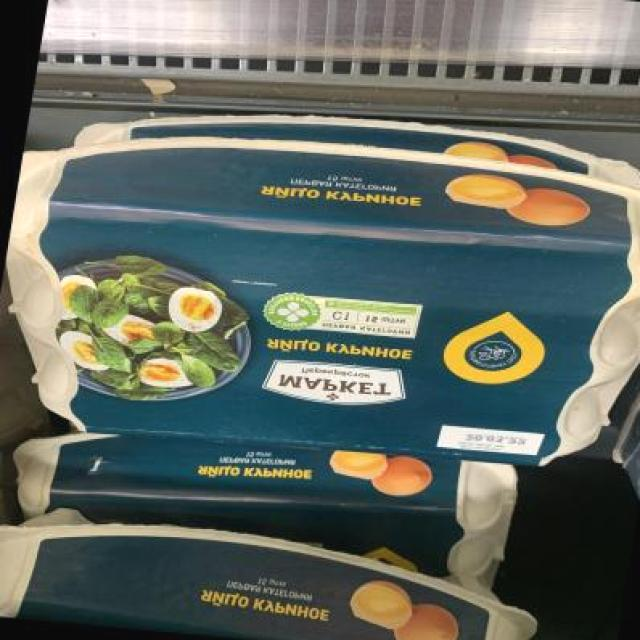egg: (0, 125, 640, 488), (6, 419, 526, 570), (0, 505, 550, 640)
